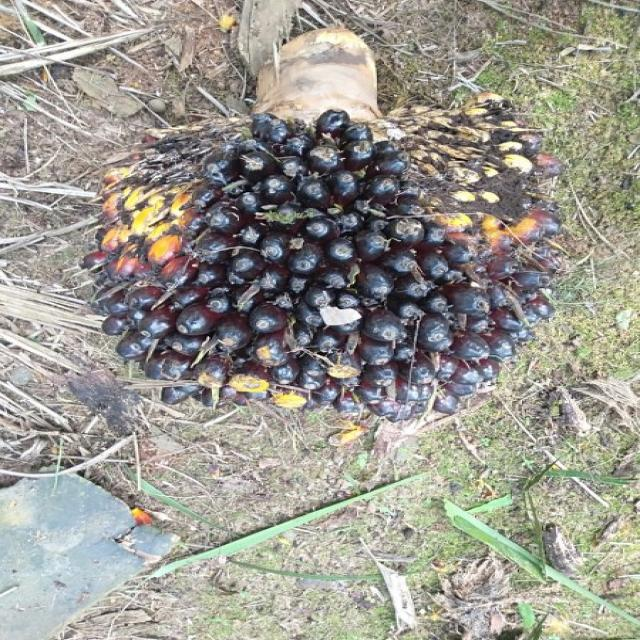fraksi 00: (57, 68, 611, 482)
